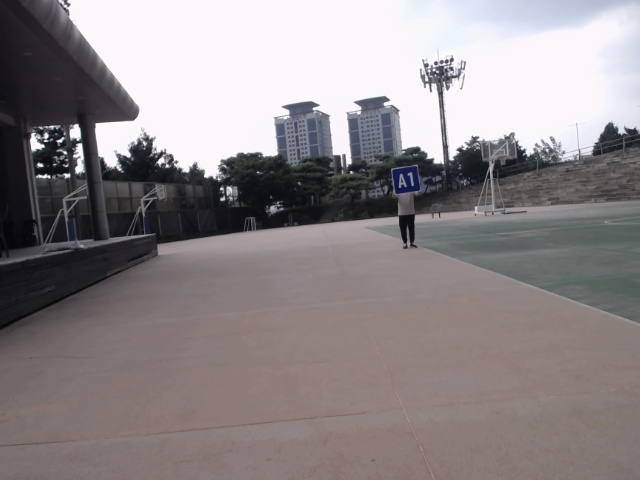delivery_a1: (392, 165, 421, 195)
